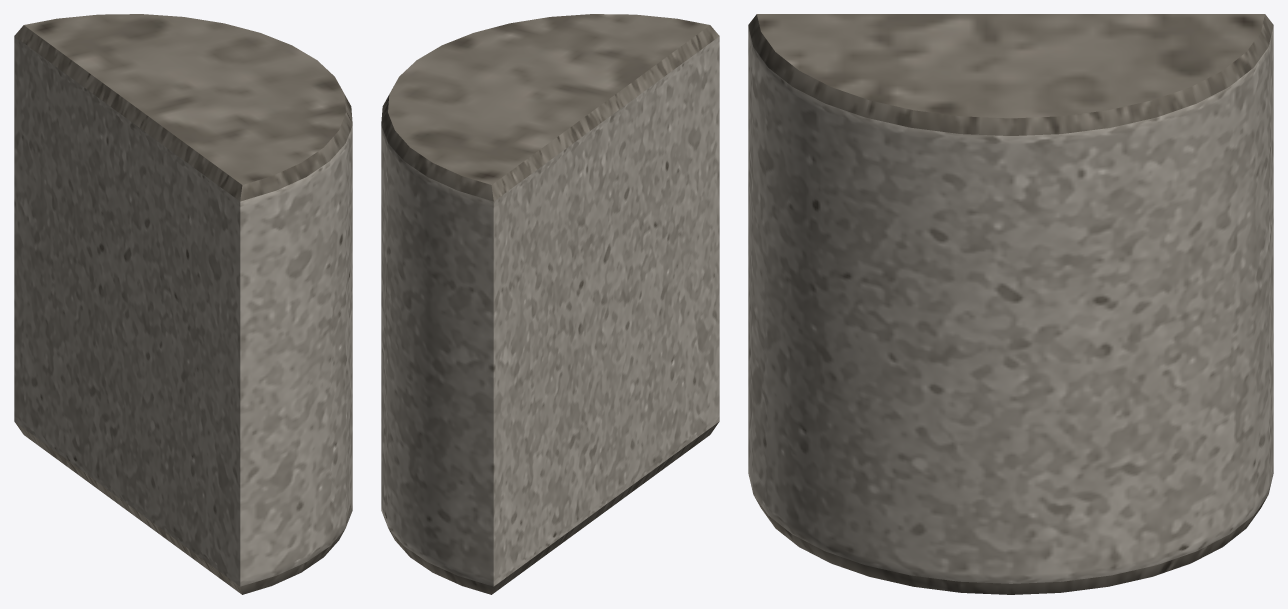
The model's file is GB_009_010_011_012_wall_side_rounded.glb.
3 renders of one model, left to right at view 1: azimuth 30°, elevation 25°; view 2: azimuth 150°, elevation 25°; view 3: azimuth 270°, elevation 25°, orthographic. The views are drawn at different scales.
Visible parts, largest first — view 1: GB_009_010_011_012_wall_side_rounded; view 2: GB_009_010_011_012_wall_side_rounded; view 3: GB_009_010_011_012_wall_side_rounded.
Part boxes in pixels (x1,y1,x2,y2): GB_009_010_011_012_wall_side_rounded: (14,14,352,594); GB_009_010_011_012_wall_side_rounded: (381,14,719,594); GB_009_010_011_012_wall_side_rounded: (748,14,1273,594).
Size of the model in its own units: 0.3748 by 0.75 by 0.7497.
Materials: 1 (1 with a texture image).
